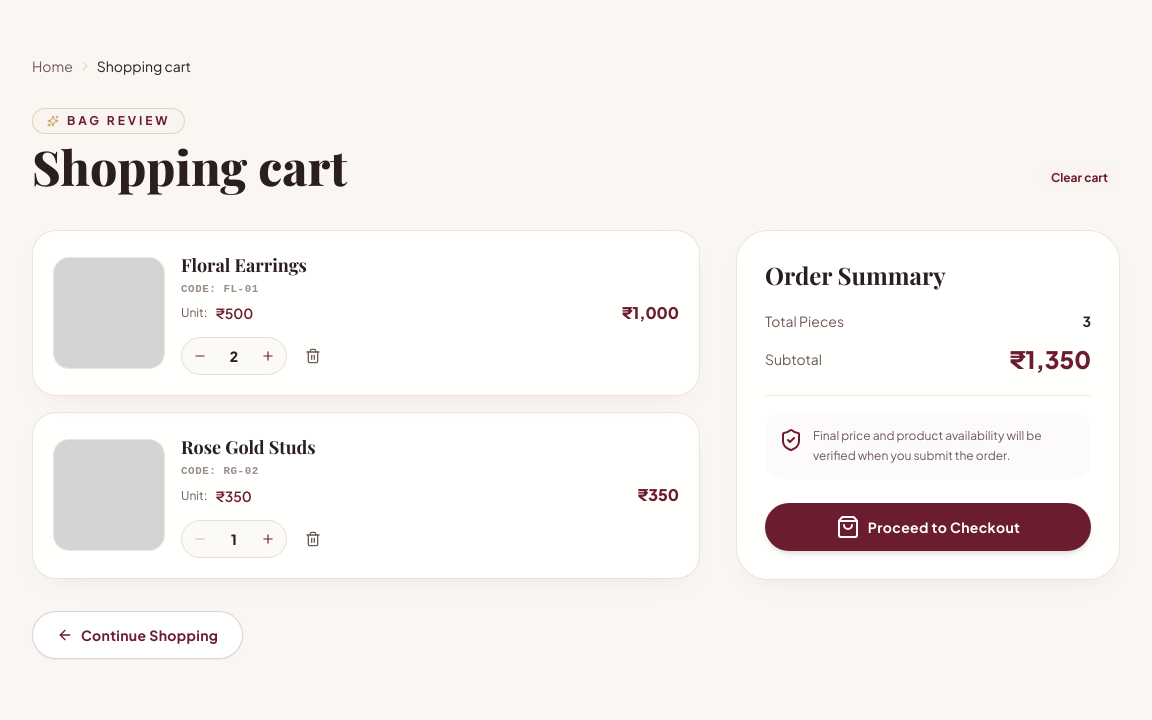
Test: CartPage › handles quantity increase and decrease
The width and height of the screenshot is (1152, 720).
Check: the link "Floral Earrings" is shown, box [181,253,307,277]
Click the button named "Increase Floral Earrings quantity" at (268, 356), box [250,338,286,374]
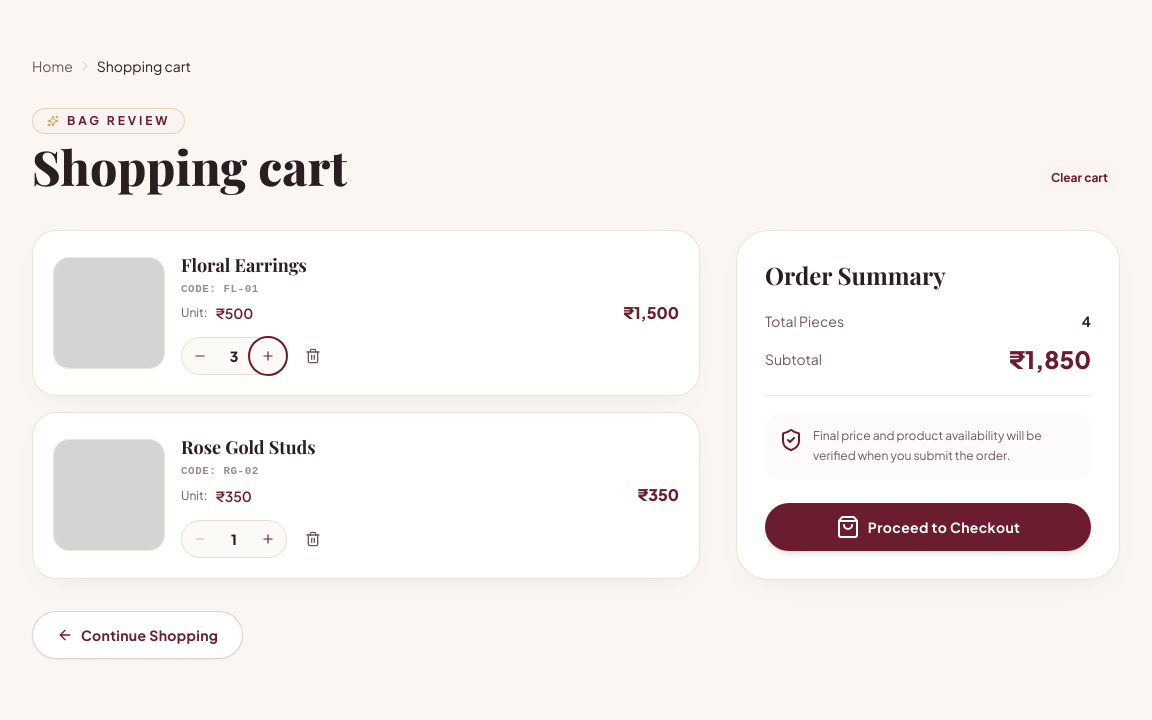
Check: the text named "Quantity: 3" is shown, box [230,347,238,365]
Check: the text "₹1,500" is shown, box [623,301,679,325]
Click the button named "Decrease Floral Earrings quantity" at (200, 356), box [182,338,218,374]
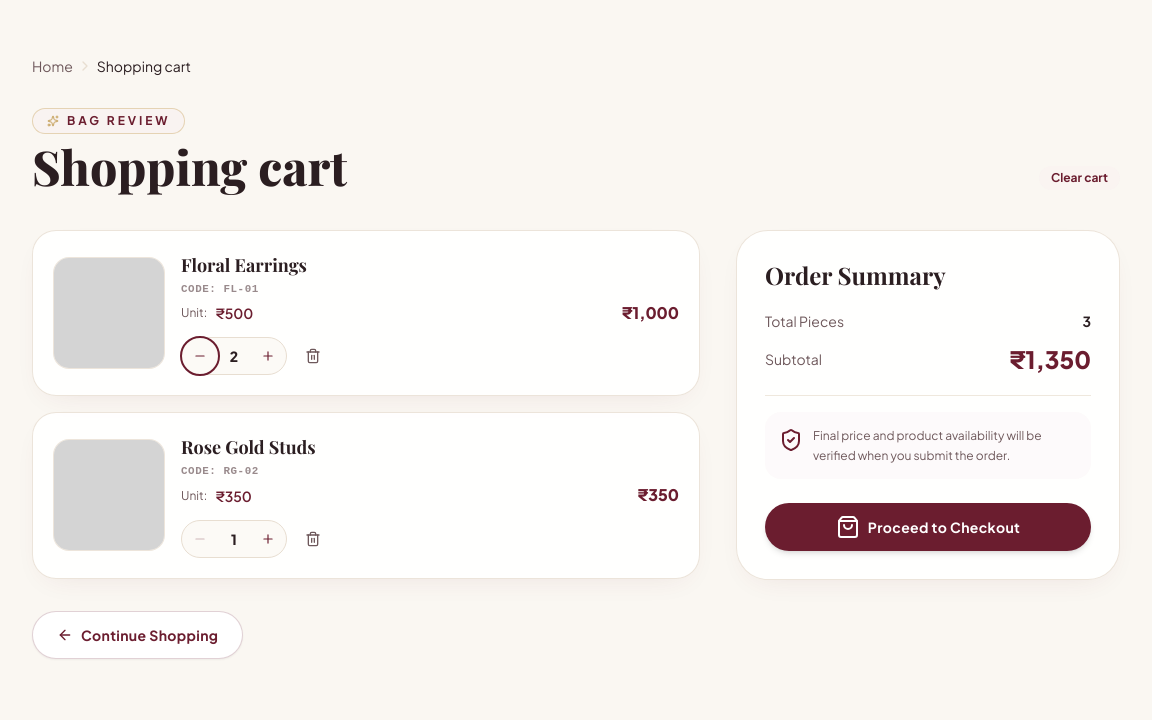
Check: the text named "Quantity: 2" is shown, box [230,347,238,365]
Check: the text "₹1,000" is shown, box [622,301,679,325]
